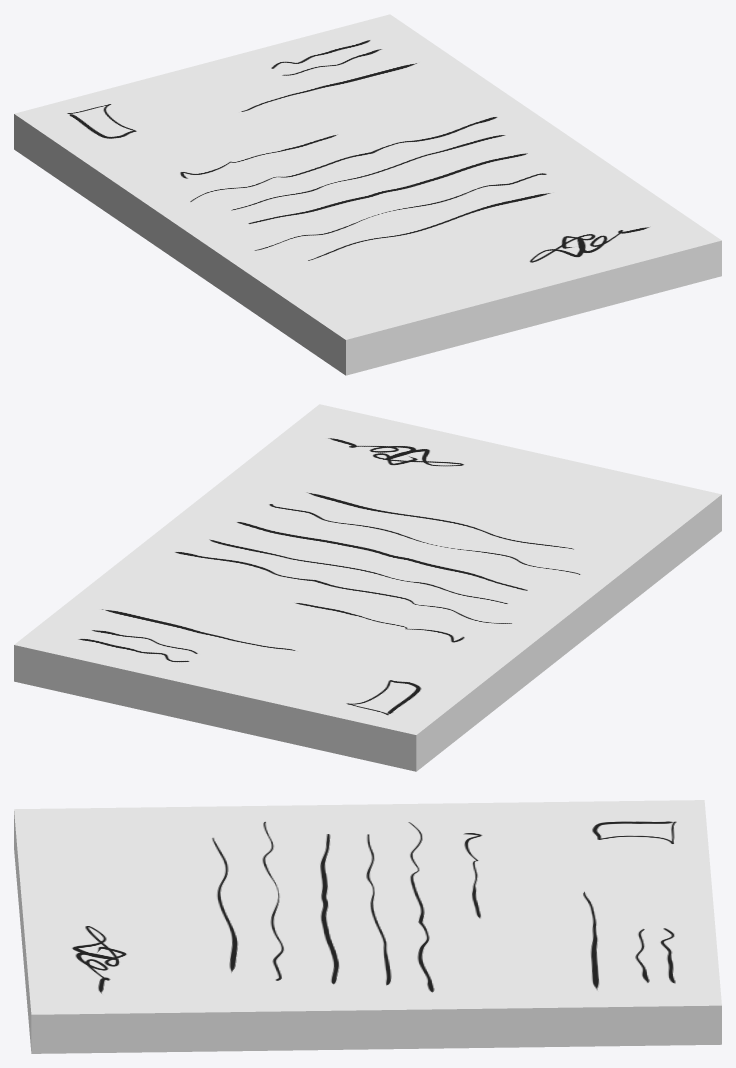
The model's file is papier do ręki.glb.
The picture shows the model from 3 angles, top to bottom: view 1: azimuth 30°, elevation 25°; view 2: azimuth 150°, elevation 25°; view 3: azimuth 270°, elevation 25°; orthographic projection. The views are drawn at different scales.
Parts seen in each view (by area): view 1: biurko.058; view 2: biurko.058; view 3: biurko.058.
Part boxes in pixels (<box>): biurko.058: <box>14,14,721,375</box>; biurko.058: <box>14,404,721,771</box>; biurko.058: <box>14,800,721,1053</box>.
Size of the model in its own units: 0.5846 by 0.0497 by 0.8144.
Materials: 1 (1 with a texture image).
